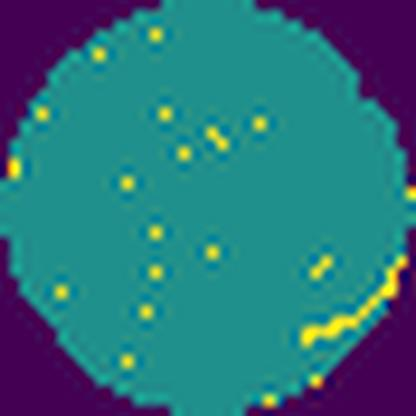Scratch: (296, 254, 409, 352)
